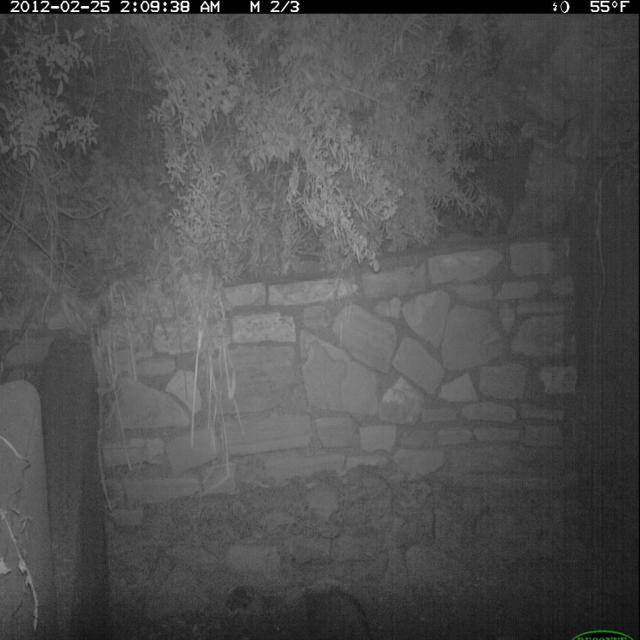raccoon: (293, 574, 377, 638)
